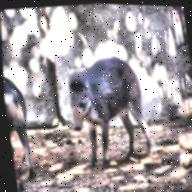boar: (50, 35, 173, 184)
